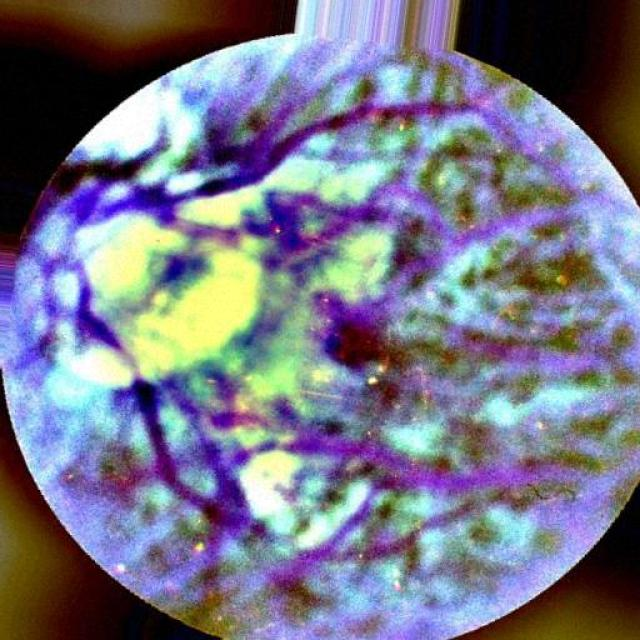Macula: (326, 319, 384, 368)
Nerves: (19, 100, 621, 589)
Optic Disk: (75, 182, 266, 379)
